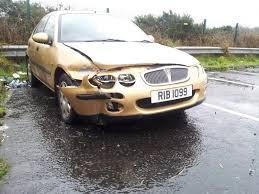Headlight-Damage: (79, 64, 136, 90)
bonnet-dent: (71, 41, 170, 66)
front-bumper-dent: (67, 74, 149, 116)
